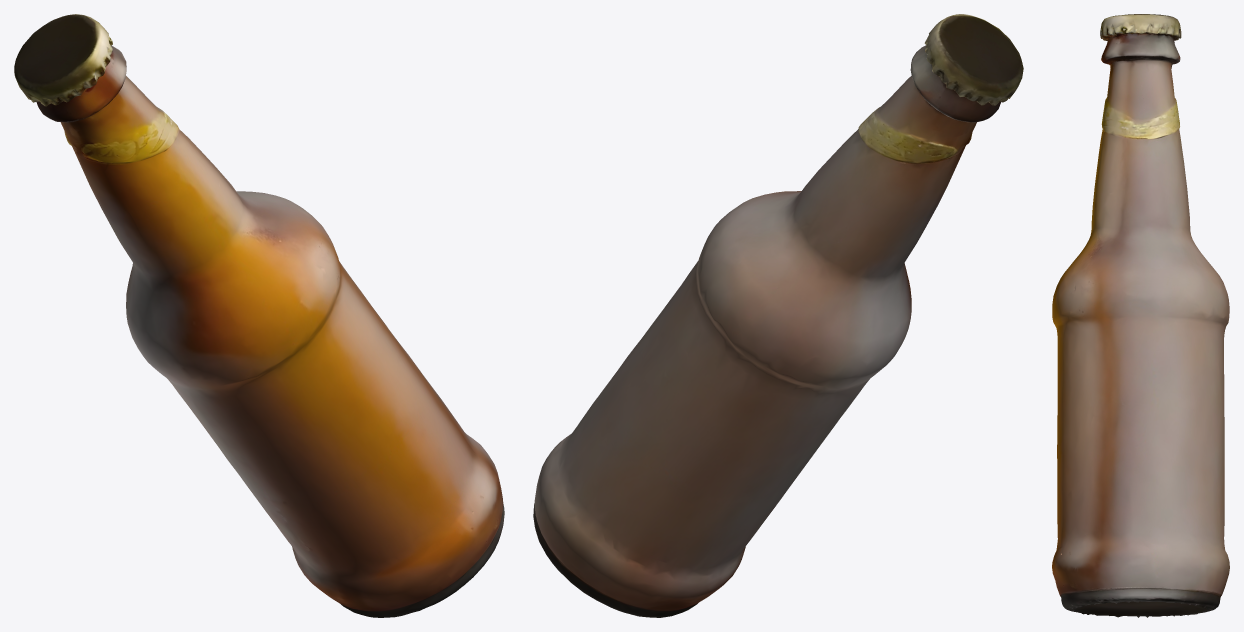
The model's file is beer_bottle.glb.
The picture shows the model from 3 angles, left to right: view 1: azimuth 30°, elevation 25°; view 2: azimuth 150°, elevation 25°; view 3: azimuth 270°, elevation 25°; orthographic projection. The views are drawn at different scales.
Visible parts, largest first — view 1: beer_bottle / mesh; view 2: beer_bottle / mesh; view 3: beer_bottle / mesh.
Part boxes in pixels (bbox=[...]): beer_bottle / mesh: bbox=[14, 14, 504, 617]; beer_bottle / mesh: bbox=[533, 14, 1023, 617]; beer_bottle / mesh: bbox=[1052, 14, 1229, 617].
Size of the model in its own units: 0.2248 by 0.3 by 0.0961.
1 material, 1 textured.
